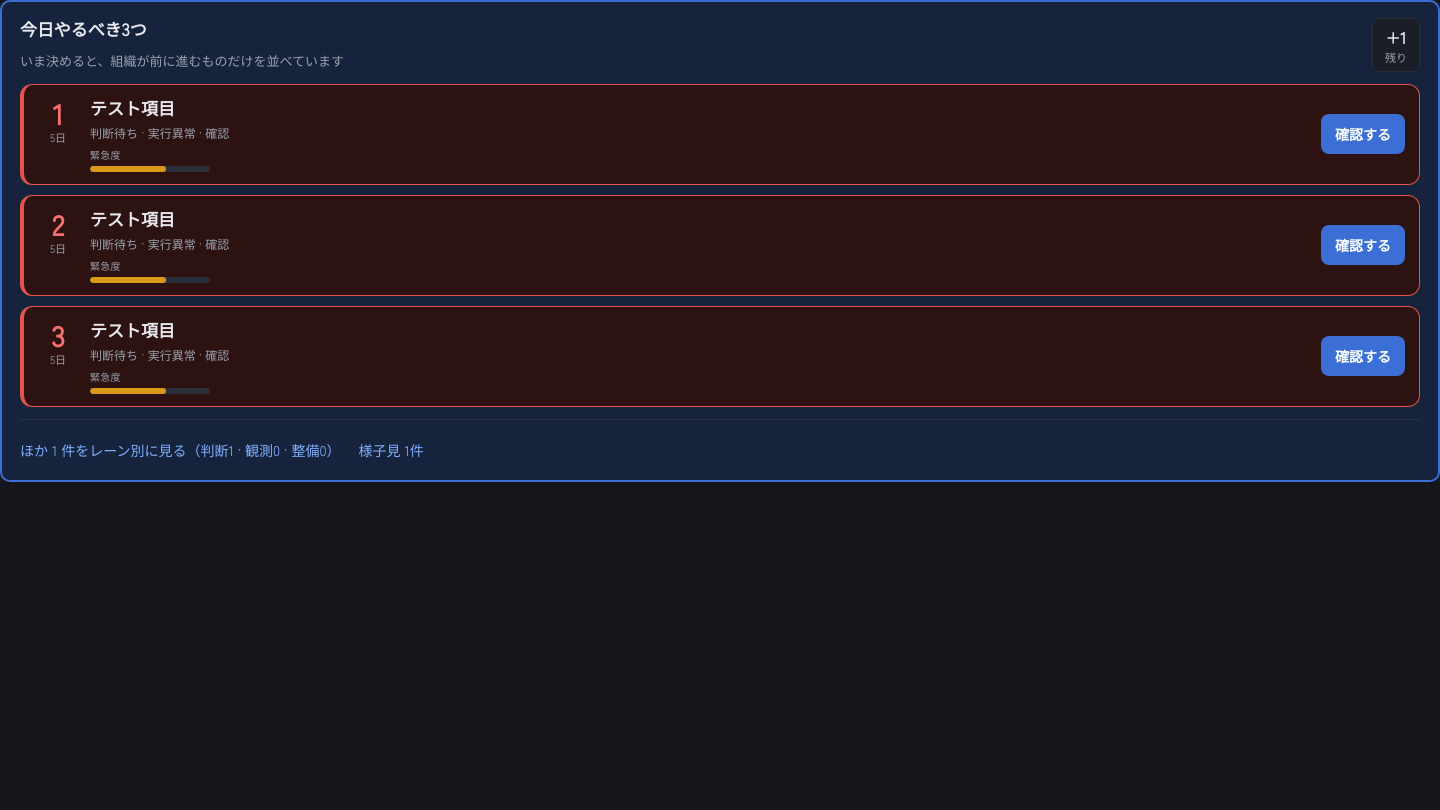
Scenario: TodayActionsPanel › 様子見リンクを出せる
The width and height of the screenshot is (1440, 810).
Click the button "様子見 1件": [391, 450] box [352,436,430,464]
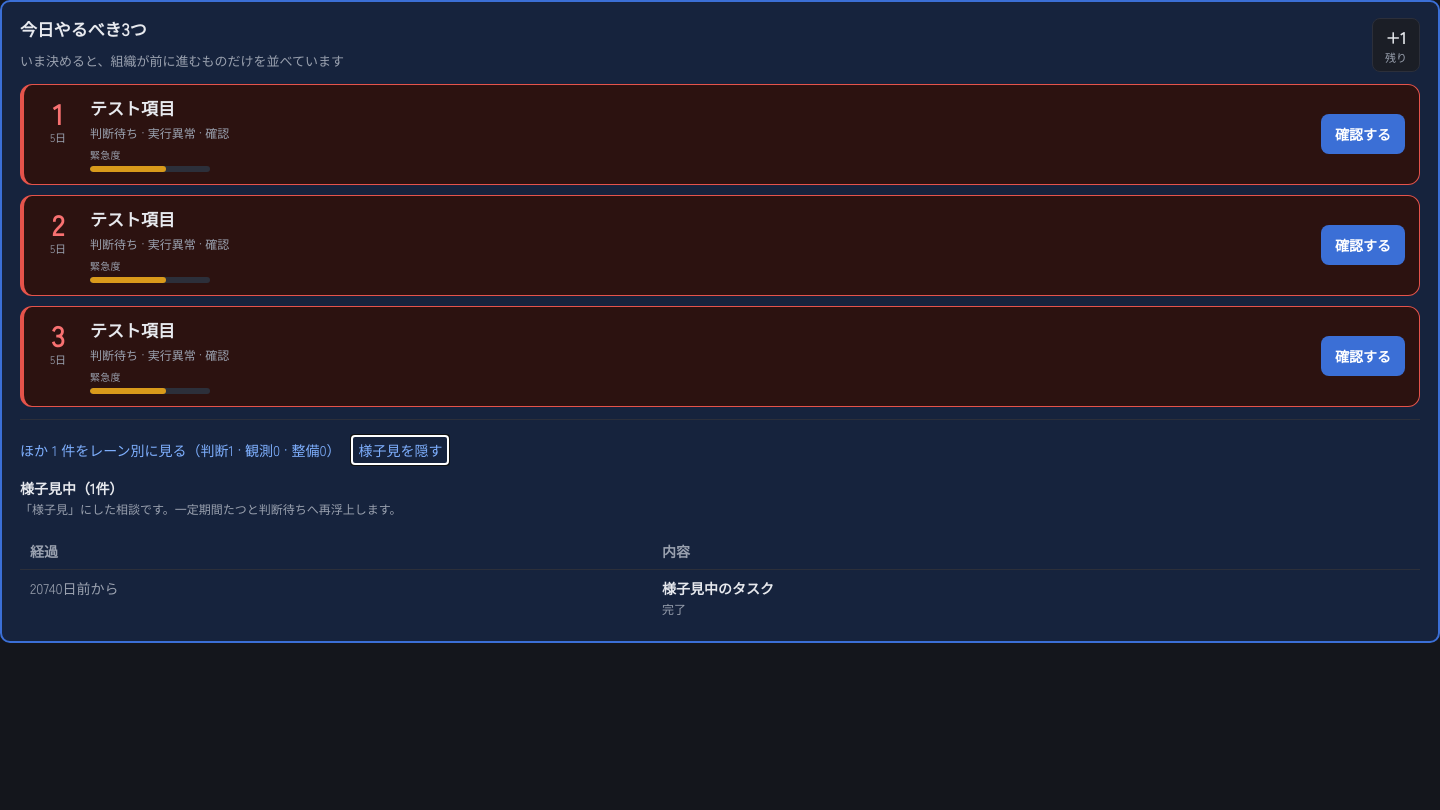
Expected: the heading "様子見中（1件）" is shown, [20,478,123,498]
Expected: the text "「様子見」にした相談です。一定期間たつと判断待ちへ再浮上します。" is shown, [20,500,402,517]
